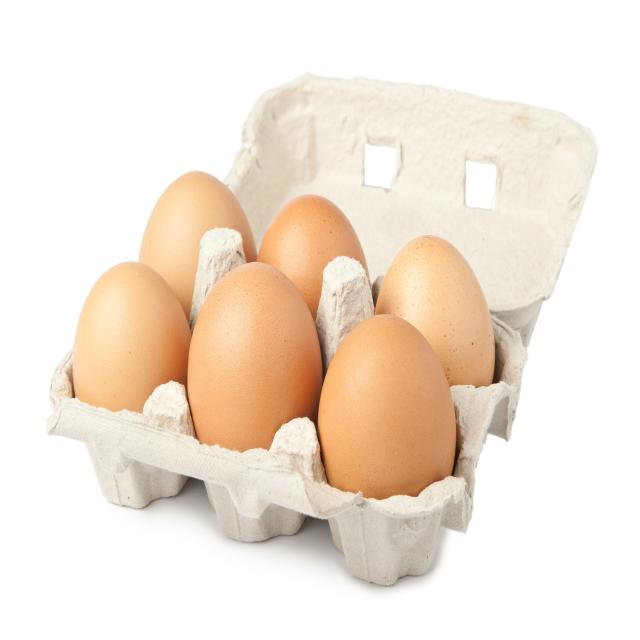huevos: (315, 317, 463, 509), (199, 270, 309, 458), (70, 255, 184, 428)
